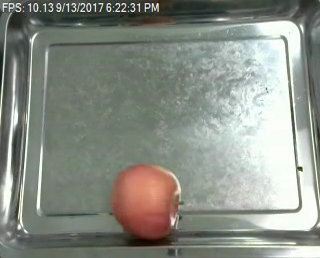Apple: (109, 158, 181, 245)
